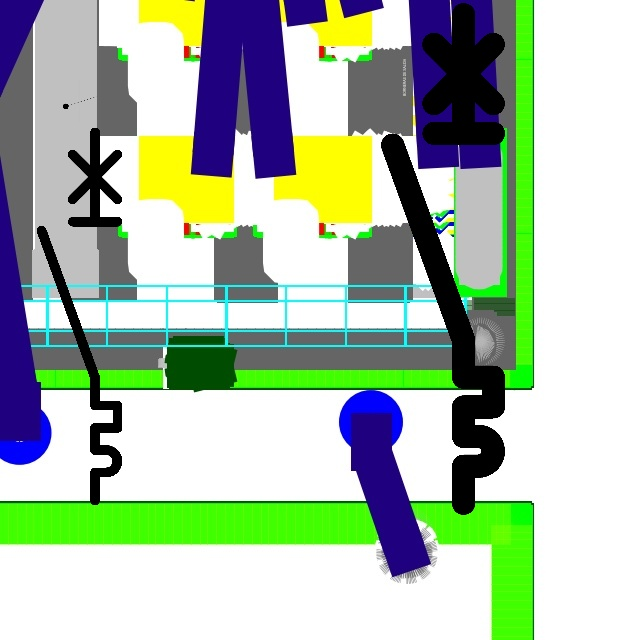interruptor_termomagnetico: (380, 2, 506, 516), (32, 122, 127, 509)
